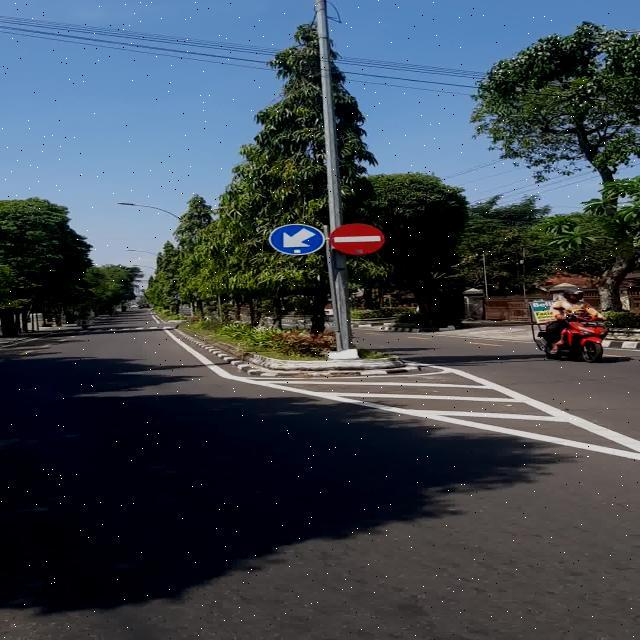Dilarang Masuk: (330, 223, 385, 254)
Lajur Kiri: (268, 222, 324, 255)
